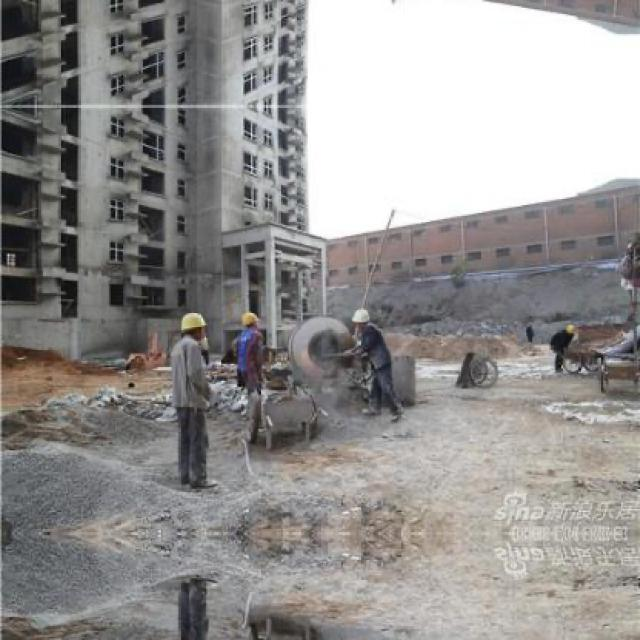helmet: (182, 310, 208, 344), (351, 307, 371, 331), (242, 313, 262, 332)
